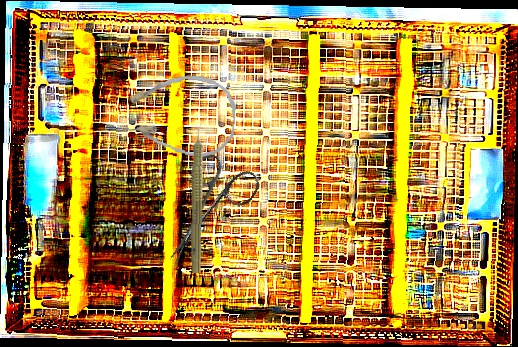Cannula: (121, 71, 238, 159)
Handpiece: (188, 116, 210, 274)
Iris Scissors: (144, 145, 265, 281)
